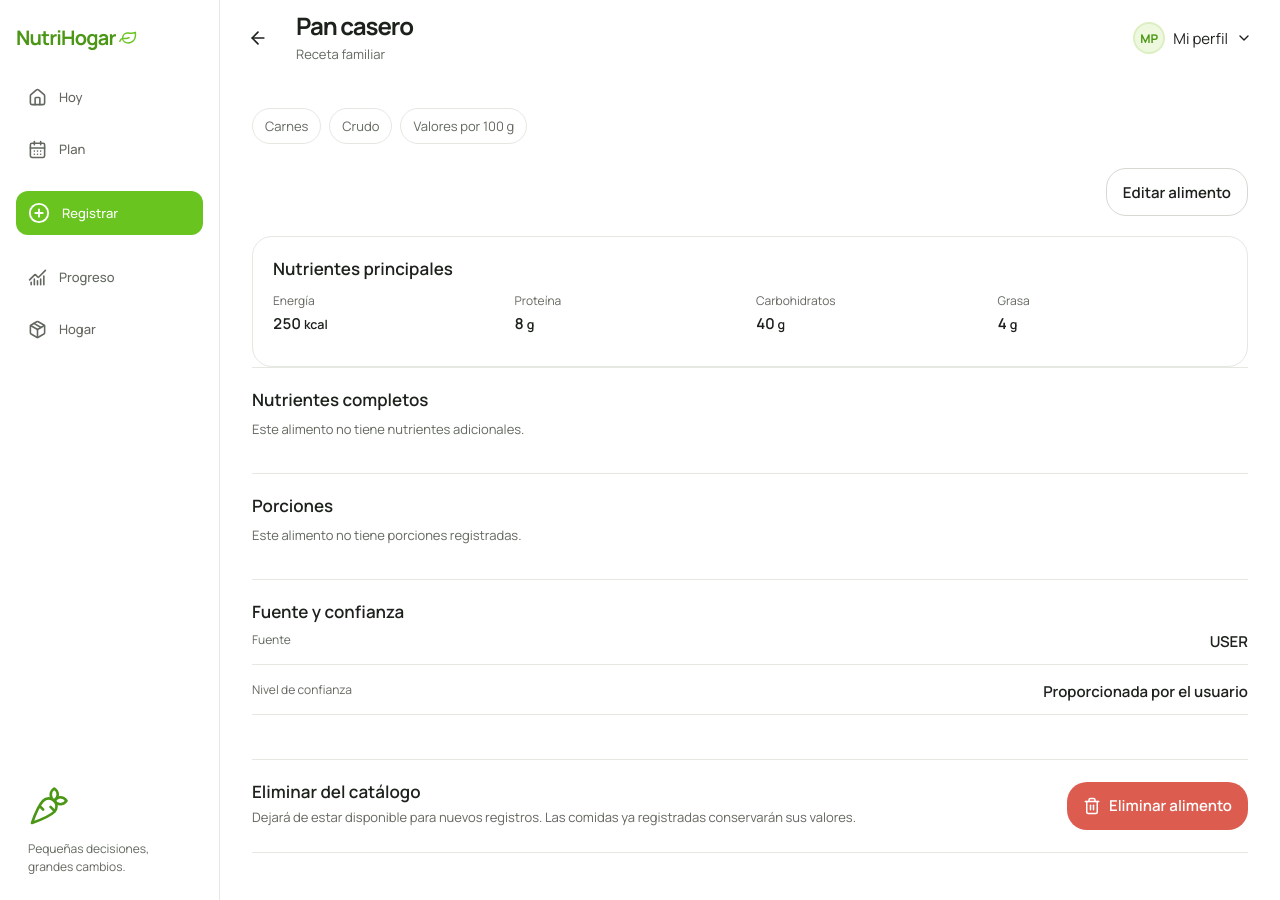
FoodDetailPage › offers custom food actions and confirms logical deletion
Expected: the heading "Pan casero" is shown, [296, 12, 413, 40]
Click the button "Eliminar alimento": (1157, 806) [1067, 782, 1248, 830]
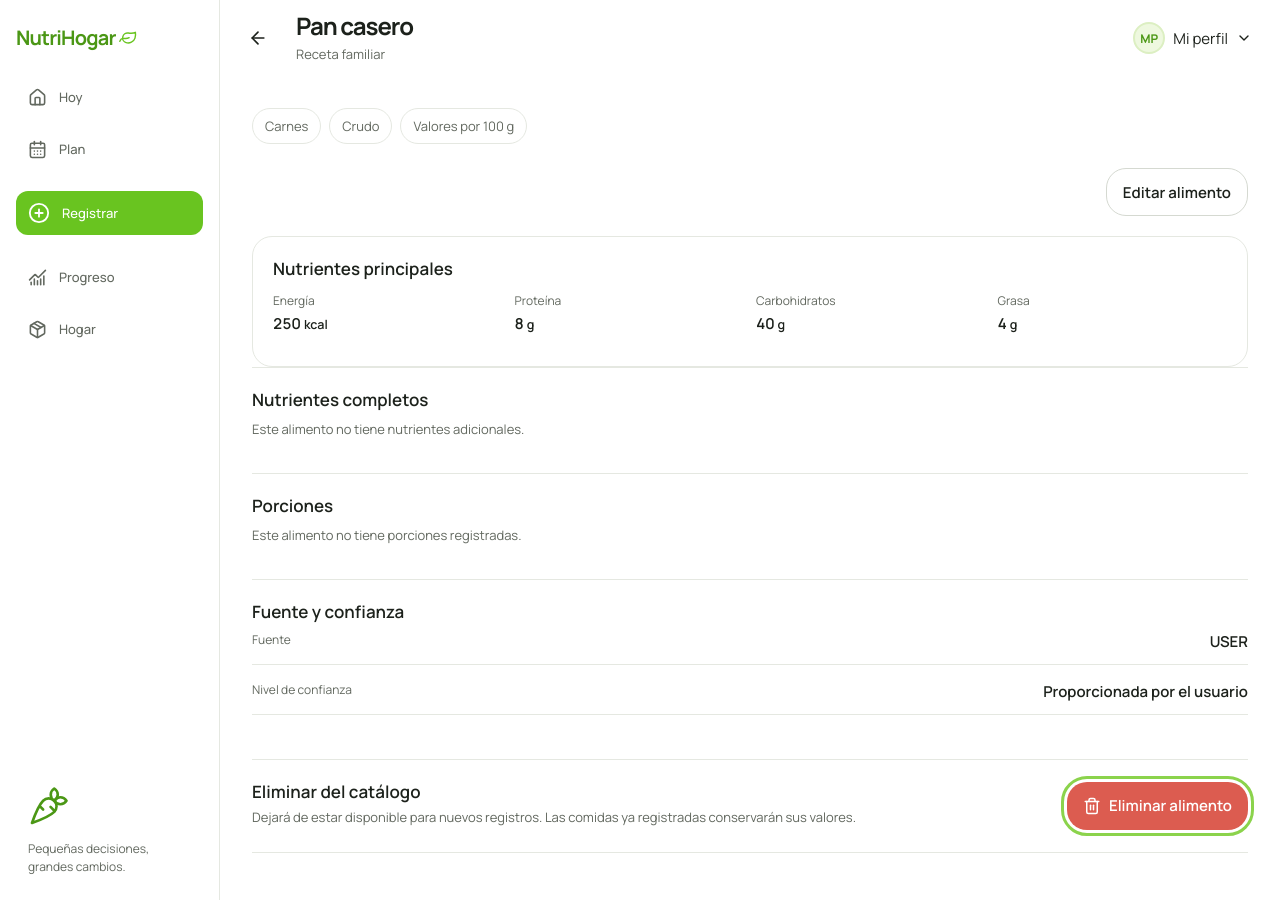
Click the button "Eliminar alimento": (1157, 806) [1067, 782, 1248, 830]
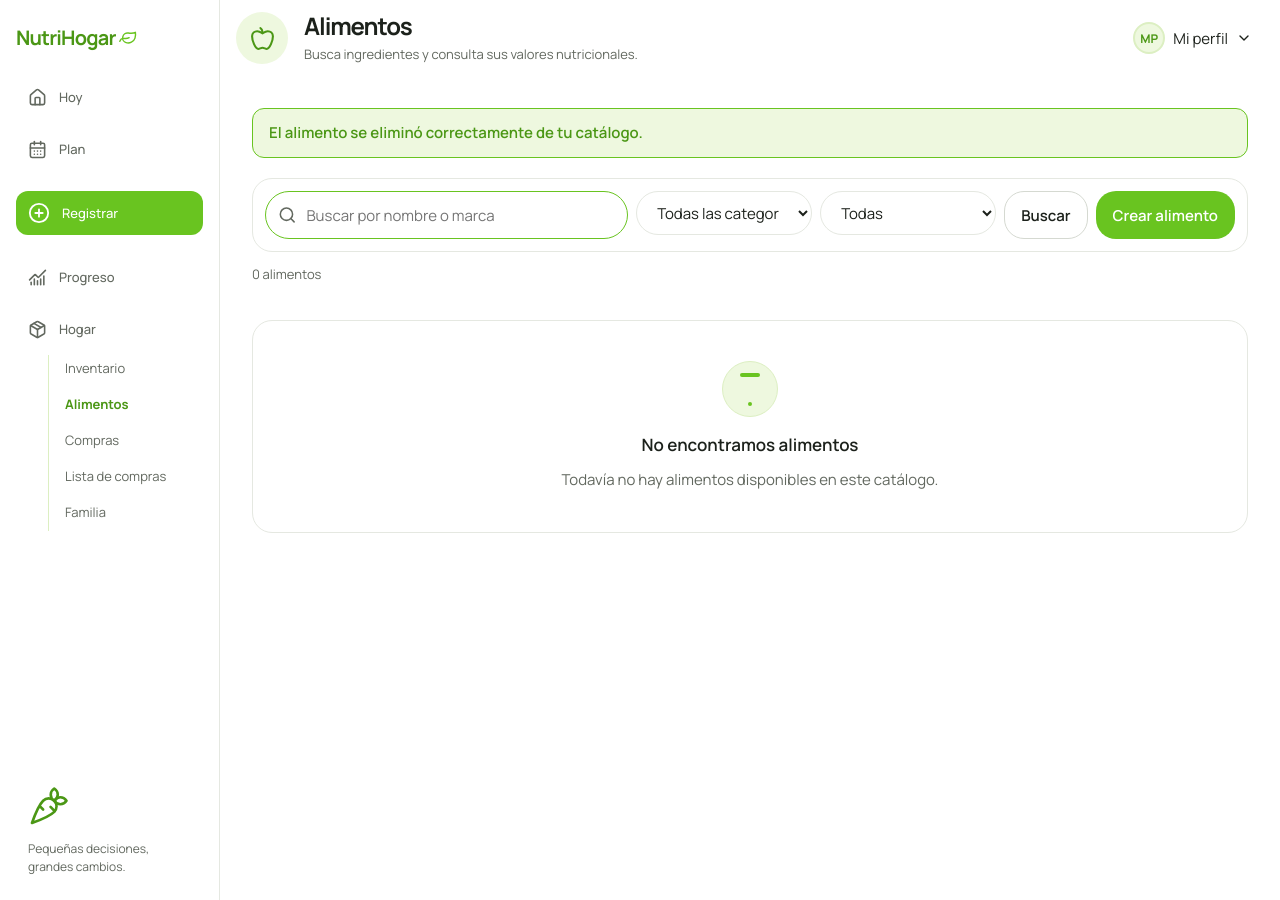
Expected: the heading "No encontramos alimentos" is shown, [642, 433, 858, 456]
